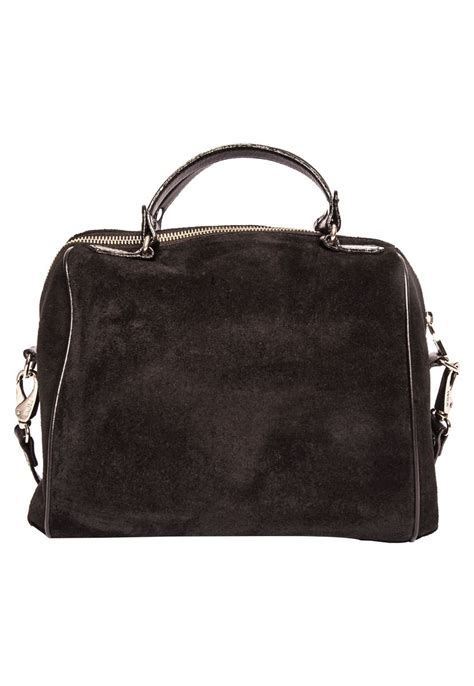gamuza: (27, 228, 444, 544)
